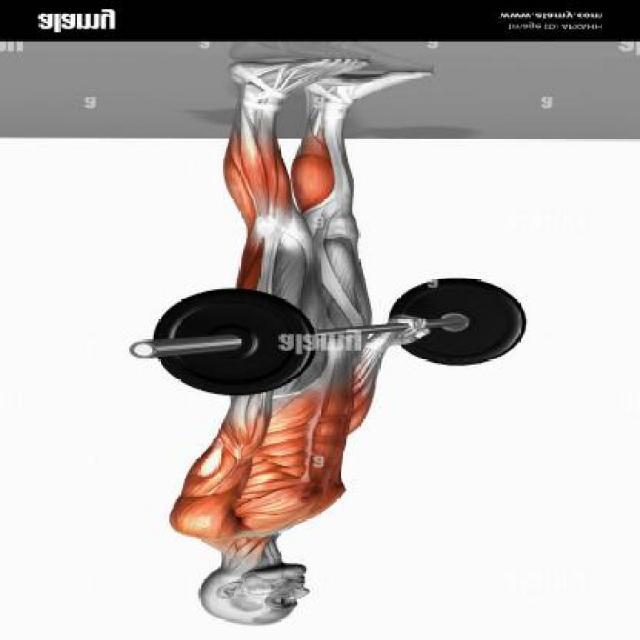Barbell: (122, 339, 162, 361)
